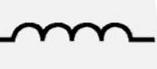inductor: (7, 18, 143, 53)
